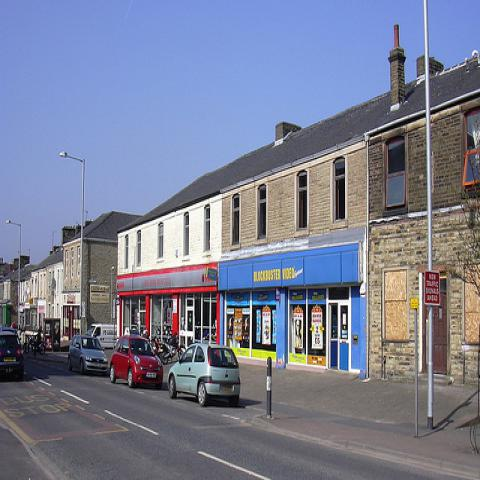car: (166, 343, 242, 408), (110, 336, 163, 390), (67, 335, 108, 376), (0, 330, 24, 382)
motorcycle: (159, 332, 186, 363)
truck: (85, 323, 117, 347)
